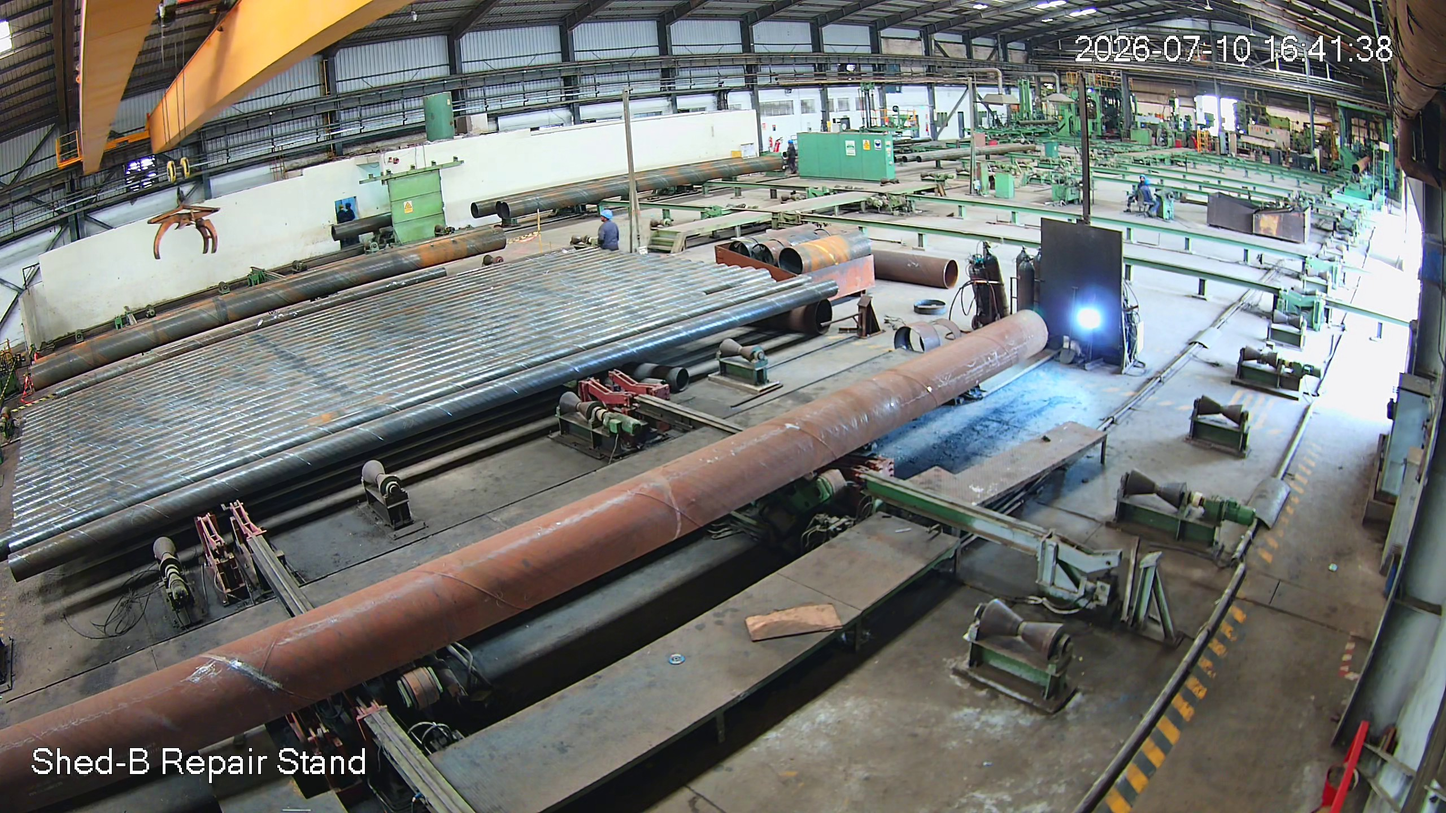Helmet: (600, 210, 614, 223)
Person: (598, 210, 621, 252)
